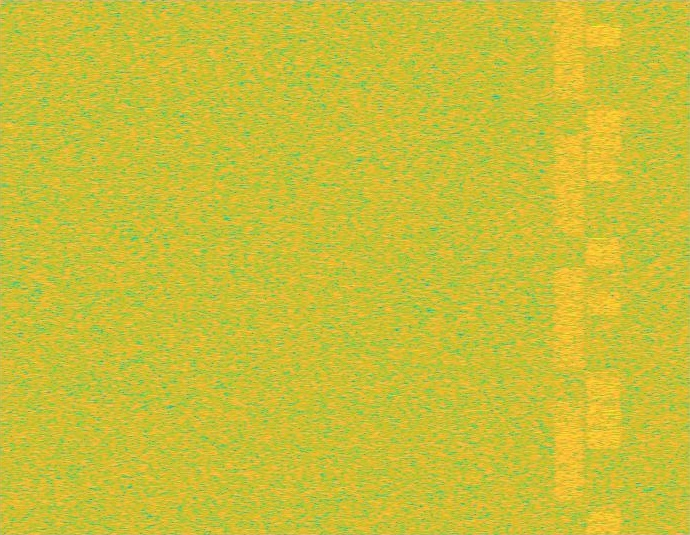5G: (552, 0, 587, 534)
LTE: (587, 0, 621, 534)
Radar: (591, 0, 605, 534)
